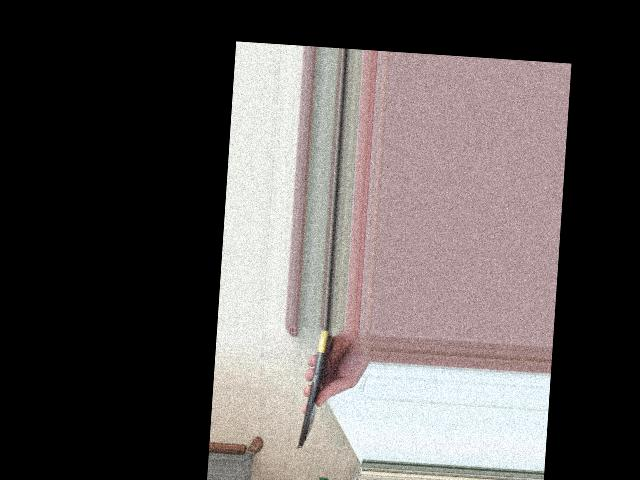chocolate: (295, 325, 338, 449)
